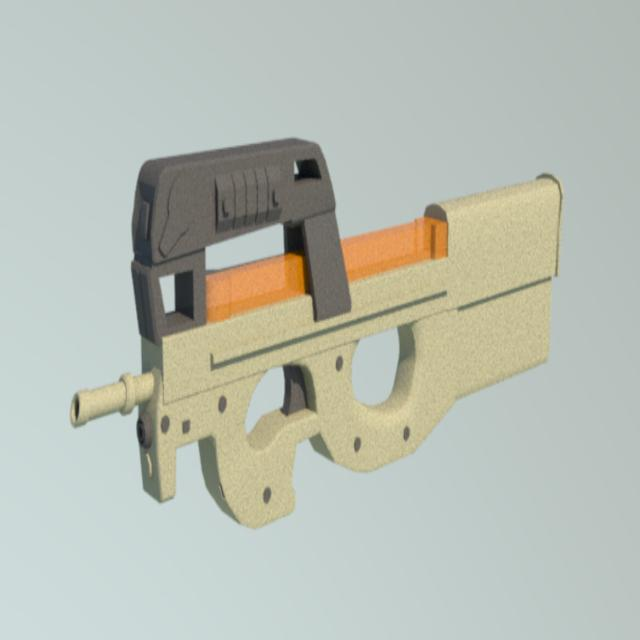Gun: (65, 84, 539, 564)
